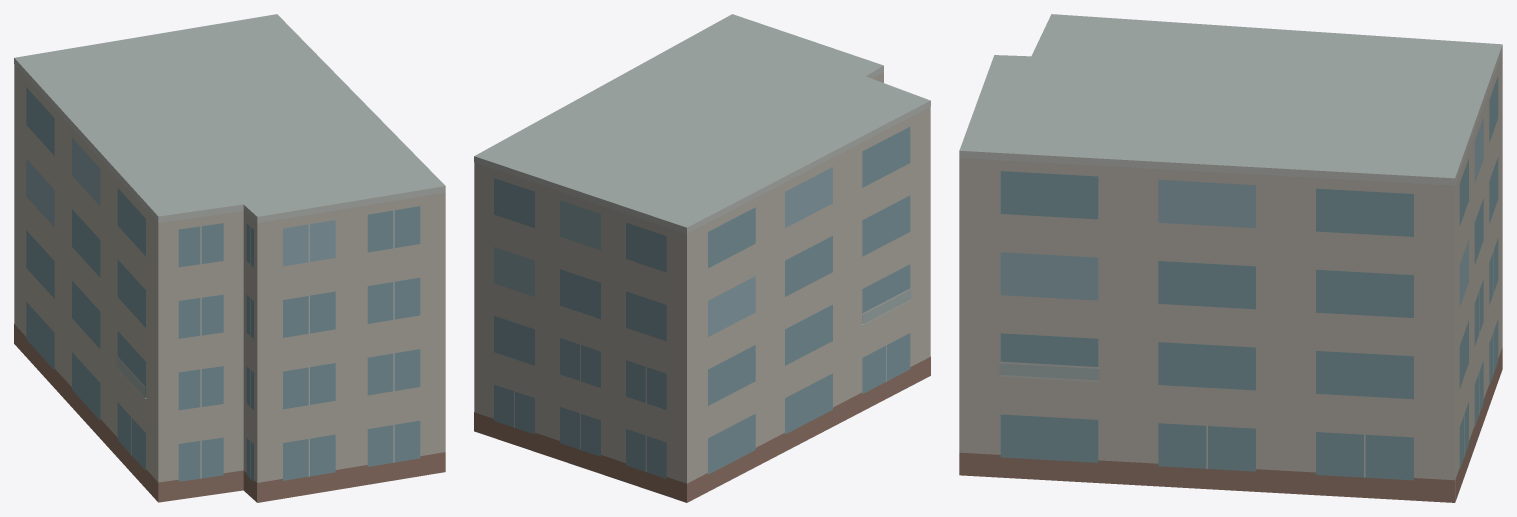
Rendered from survey-upis-32659642.glb.
3 renders of one model, left to right at view 1: azimuth 30°, elevation 25°; view 2: azimuth 150°, elevation 25°; view 3: azimuth 270°, elevation 25°, orthographic. The views are drawn at different scales.
Visible parts, largest first — view 1: survey-upis-32659642.tmp; view 2: survey-upis-32659642.tmp; view 3: survey-upis-32659642.tmp.
Boxes of the visible parts, <box> form: survey-upis-32659642.tmp: <box>14,14,445,502</box>; survey-upis-32659642.tmp: <box>474,14,930,502</box>; survey-upis-32659642.tmp: <box>959,14,1502,502</box>.
Size of the model in its own units: 12.01 by 11.05 by 16.78.
